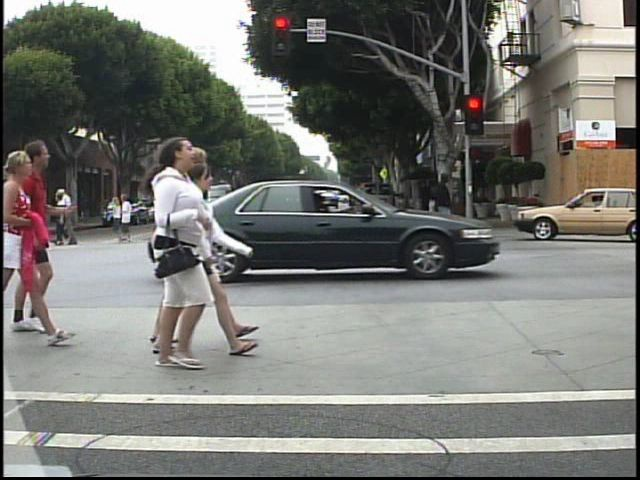person: (131, 138, 225, 379), (182, 148, 254, 352), (170, 158, 238, 367), (0, 151, 70, 351), (422, 168, 457, 241), (347, 177, 374, 241), (52, 191, 80, 247), (177, 186, 200, 248), (233, 182, 256, 240), (58, 186, 79, 247), (349, 187, 365, 223)
